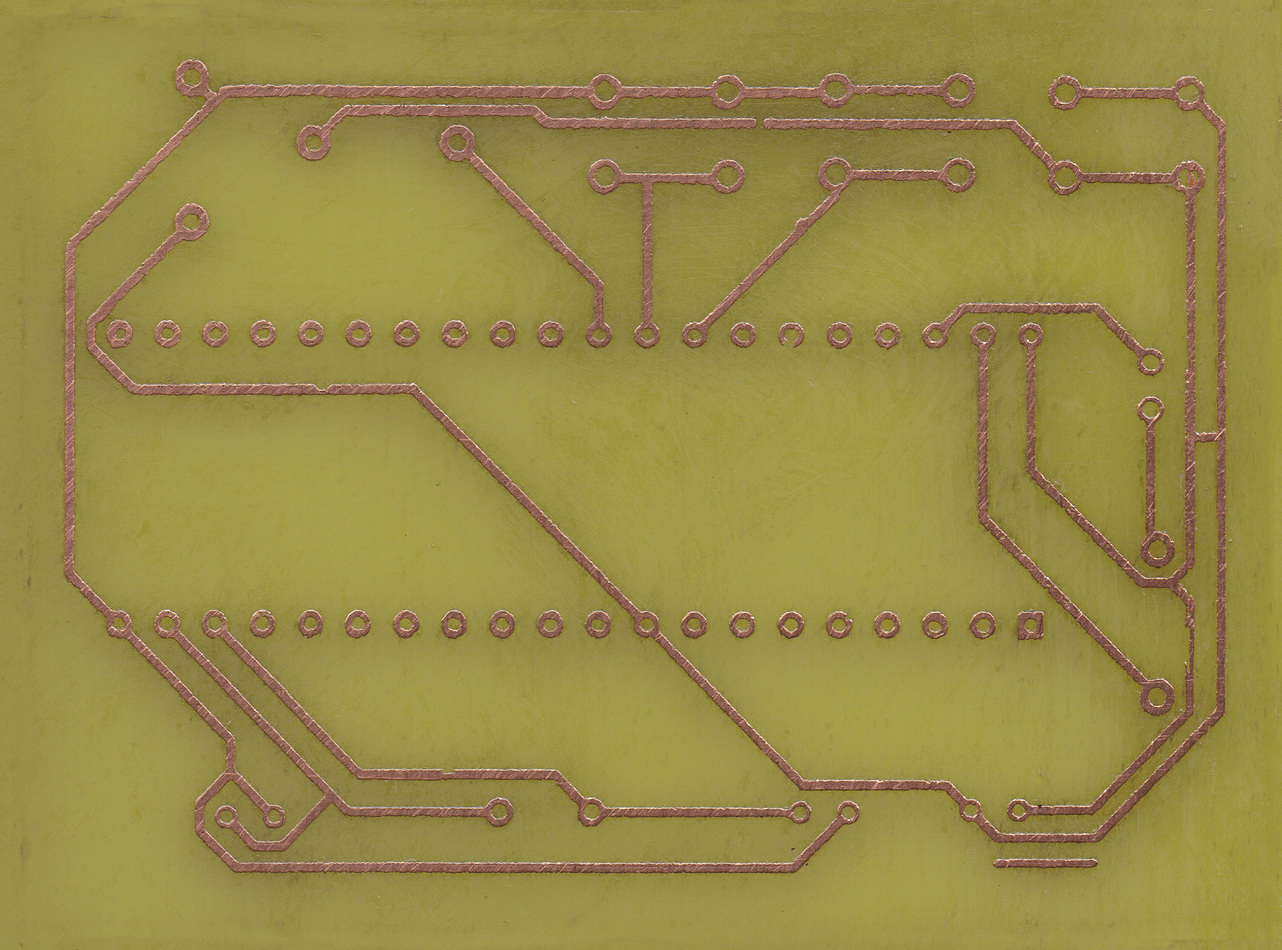missing_hole: (777, 323, 805, 349)
mouse_bite: (312, 381, 334, 393), (438, 769, 459, 778)
open_circuit: (745, 117, 774, 131)
short: (1185, 422, 1226, 450)
spur: (793, 216, 809, 234)
spurious_copper: (993, 856, 1102, 872)
